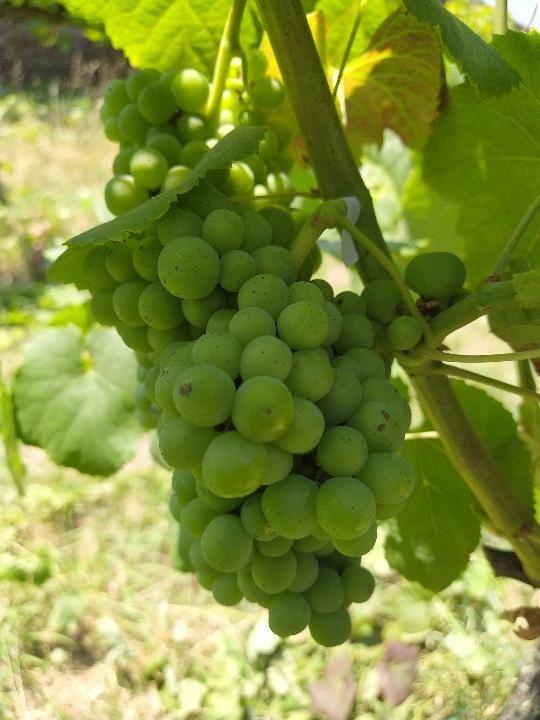grape: (85, 184, 466, 648)
